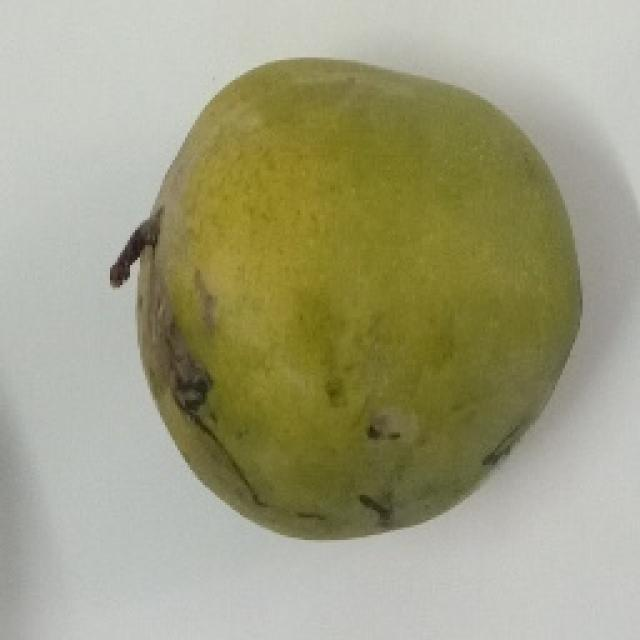defective: (108, 52, 582, 540)
